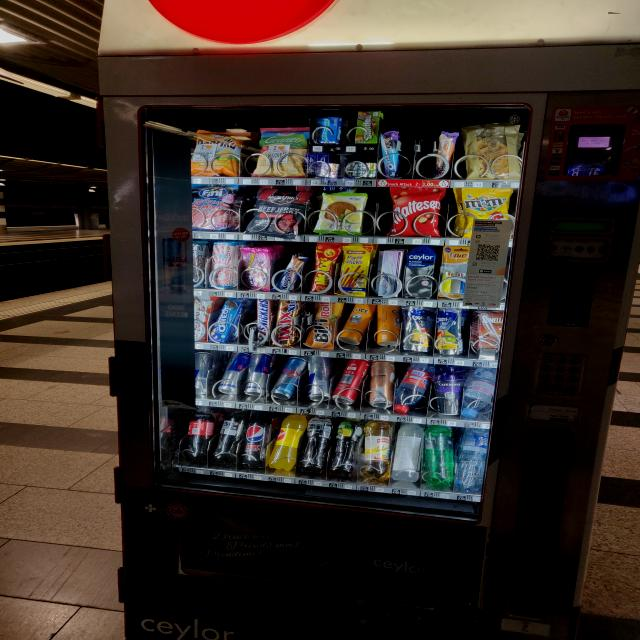airwaves_menthoneucalyptus_riegel_14_1_50173167: (309, 114, 342, 144)
bifi_roll__50__4251097402635: (304, 301, 341, 350)
bueno___43__4008400320328: (186, 296, 216, 343)
c-swiss_dosenabisicetea__33__9120025930135: (342, 302, 374, 346), (374, 304, 403, 346)
caferoyal_classicmacchiato__33__7617014164487: (430, 366, 468, 418)
caprisun_multivitamin__20__4000177605004: (428, 310, 466, 356), (399, 308, 436, 352)
coke__dose_33__54491472: (332, 361, 368, 404)
coke__flasche_50__54491472: (182, 410, 215, 459)
coke_zero_flasche_50__5449000131836: (215, 410, 246, 460)
comella_schokodrink__33__7613100037253: (477, 312, 506, 348)
evian___50__3068320353500: (458, 365, 498, 418)
fini_galaxymix_packung_100_1_8410525150364: (190, 185, 240, 232)
fini_jellykisses_packung_80_1_8410525116704: (242, 246, 274, 291)
fuse_lemon__50__5449000235947: (329, 420, 364, 477)
fuse_peach__50__5449000236623: (294, 416, 334, 474)
fuse_peach_dose_33__5449000236623: (368, 361, 398, 412)
henniez_blau__33__7610235000442: (452, 428, 492, 491)
henniez_rot__33__7610235000442: (392, 363, 433, 413)
jacklinks_beefjerkyorginal__25__4047751730219: (248, 185, 308, 235)
jlbrichard_gauffre__90__5410495002000: (464, 123, 524, 183)
kagi_specialedition__50__7610046000259: (210, 242, 237, 288)
knoppers_riegel____4035800488808: (279, 255, 309, 295)
lorenz_nicnacs__40__4018077798818: (312, 240, 341, 294)
malburner_partysticks__40__7610200279682: (332, 244, 375, 296)
maltesers___100__5000159023061: (386, 184, 449, 240)
mnms_gelb__45__40111445: (456, 188, 513, 238)
oreo___66__84100733: (210, 300, 244, 342)
ramseier_schorle__50__7610057012456: (360, 422, 396, 481)
redbull___33__90162909: (300, 358, 338, 403), (244, 352, 270, 396), (217, 356, 246, 394)
redbull_light__33__90162800: (270, 356, 302, 399)
sinalco_orange__50__4018715000112: (270, 411, 310, 471)
skittles_sour_riegel_51_1_0000000000004: (354, 110, 383, 143)
snickers___50__5000159461122: (255, 296, 275, 344)
stimorol_spearmint_riegel_14_1_0000000000005: (344, 160, 379, 177)
stimorol_wildcherry_riegel_14_1_57060330: (312, 161, 339, 176)
twix___50__5000159459228: (269, 300, 301, 346)
valser_classic__50__76404160: (422, 426, 458, 486)
vitaminwell_reload__50__7350042716388: (394, 424, 423, 483)
zweifel_graneochilli__100__7610095184009: (251, 124, 314, 179)
zweifel_paprika__90__7610095013002: (188, 128, 247, 178)
